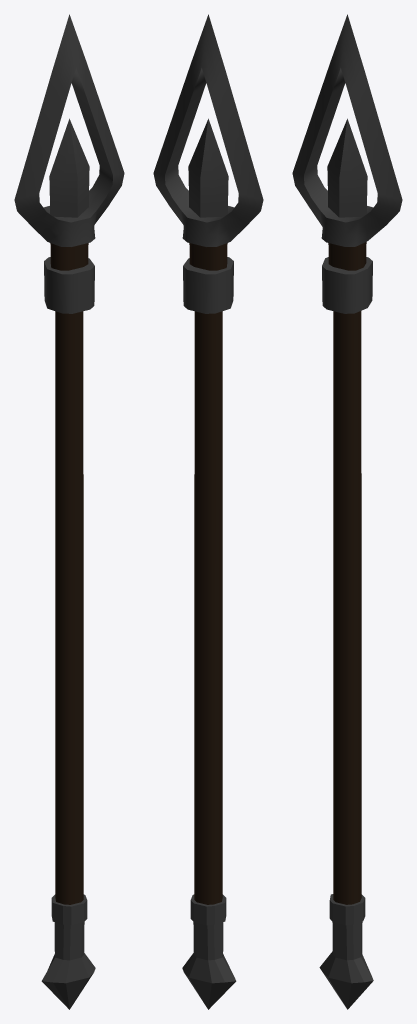
Rendered from SM_Spear.fbx.
3 views of the same model, side by side, from view 1: azimuth 30°, elevation 25°; view 2: azimuth 150°, elevation 25°; view 3: azimuth 330°, elevation 25° (orthographic).
Visible parts, largest first — view 1: Plane002; view 2: Plane002; view 3: Plane002.
Part boxes in pixels (box(x1,y1,x2,y2)): Plane002: box(14, 14, 124, 1009); Plane002: box(153, 14, 263, 1009); Plane002: box(292, 14, 402, 1009).
Bounding box in the file's own units: 3.11 × 26.89 × 1.16.
